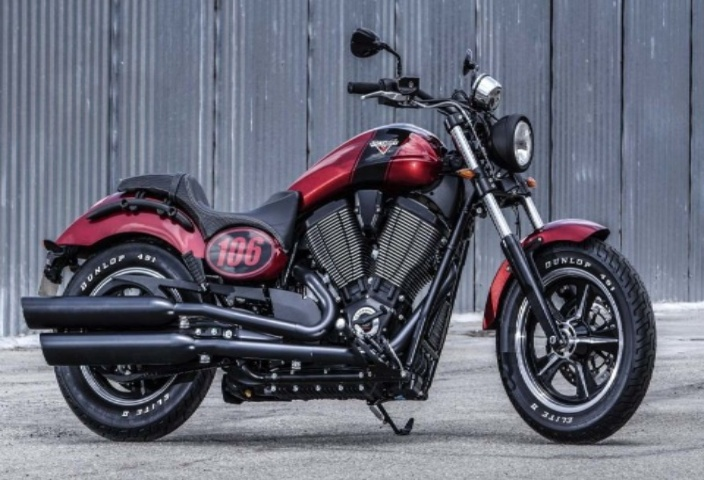motorcycle: (22, 35, 671, 455)
